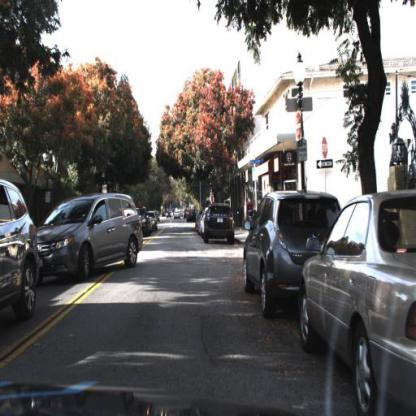car: (298, 183, 416, 415), (243, 191, 343, 317), (33, 188, 144, 285), (241, 185, 301, 326), (2, 178, 42, 326), (203, 200, 239, 250), (135, 206, 151, 242)
pedestrian: (245, 195, 255, 235), (237, 200, 247, 236)
